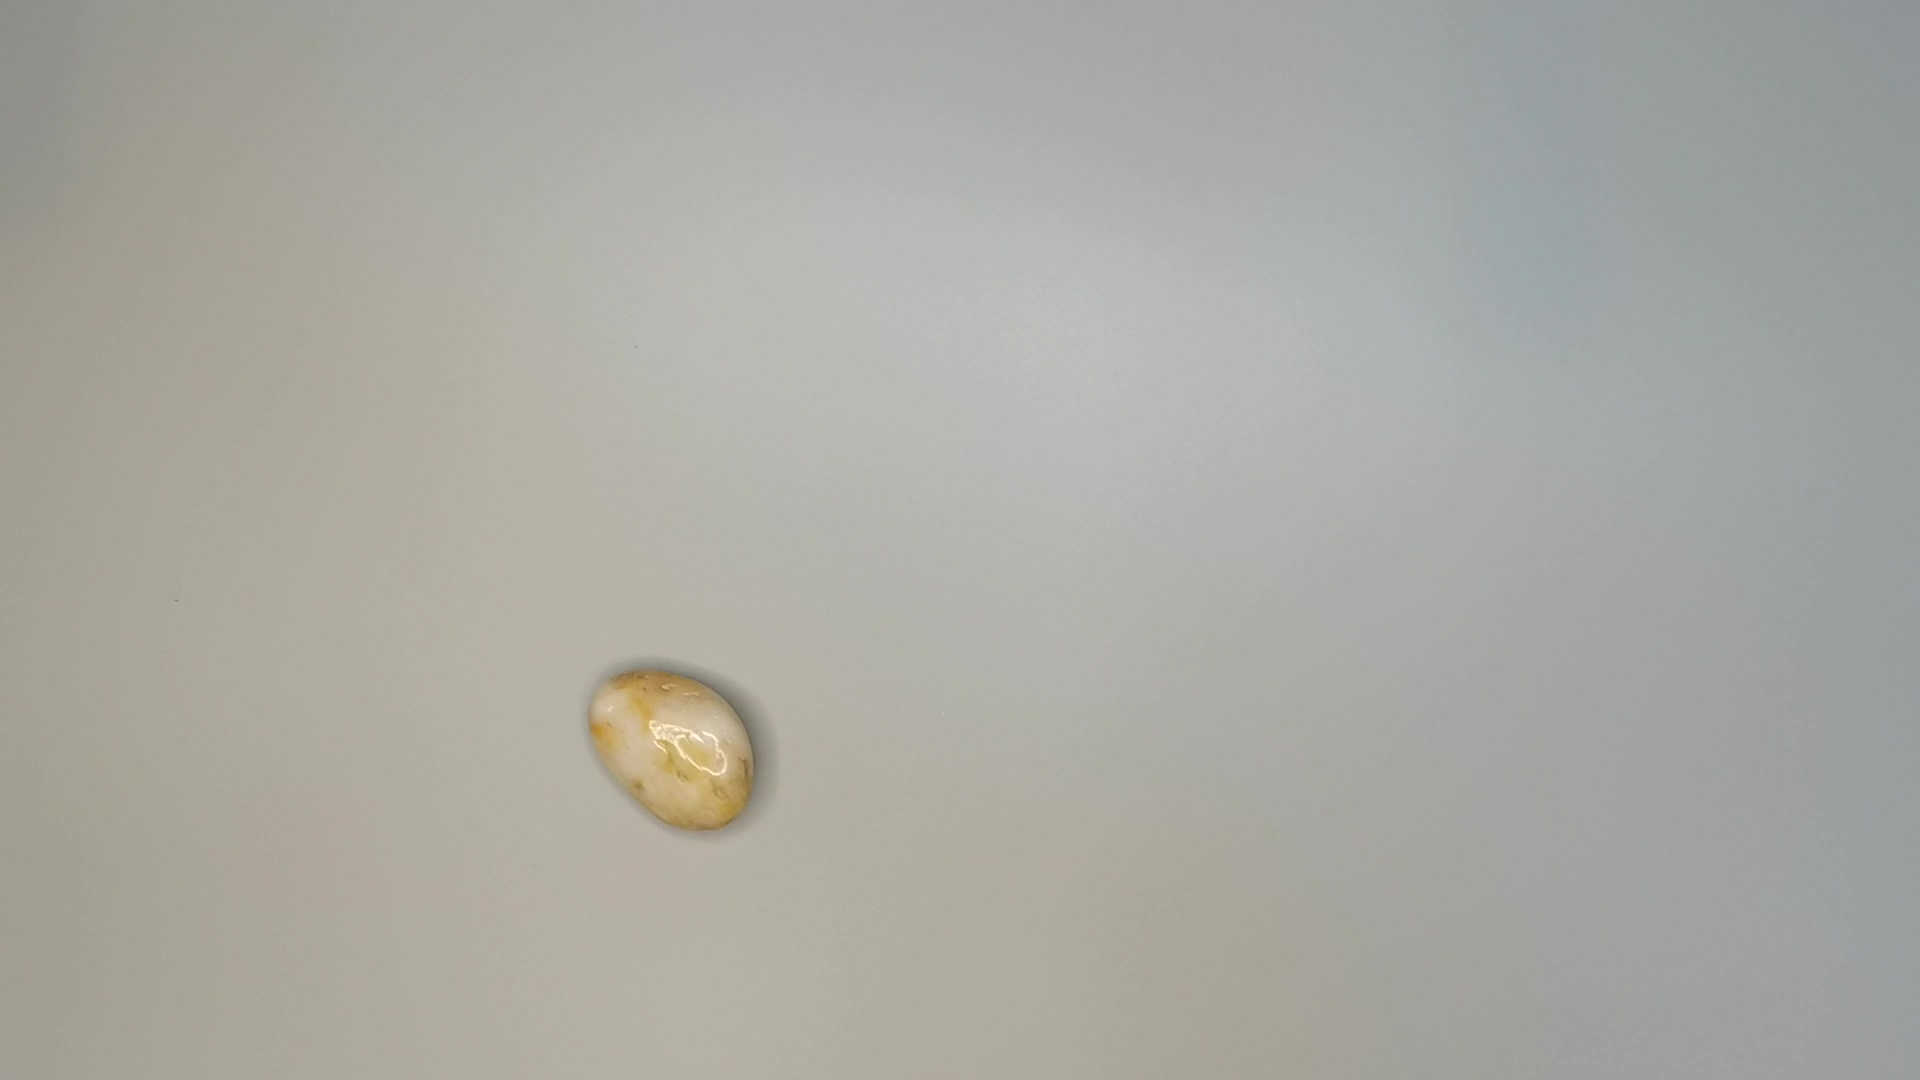ceramic: (575, 665, 764, 841)
